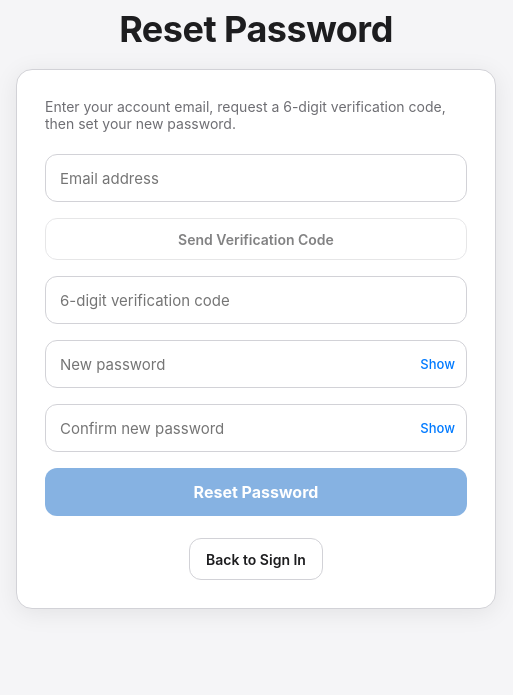
Scenario: ForgotPasswordPage › resets password successfully after entering code and new password
The width and height of the screenshot is (513, 695).
Type "test@example.com" into the field with placeholder "Email address".
click(256, 178); type("test@example.com")  # box [45, 154, 467, 202]
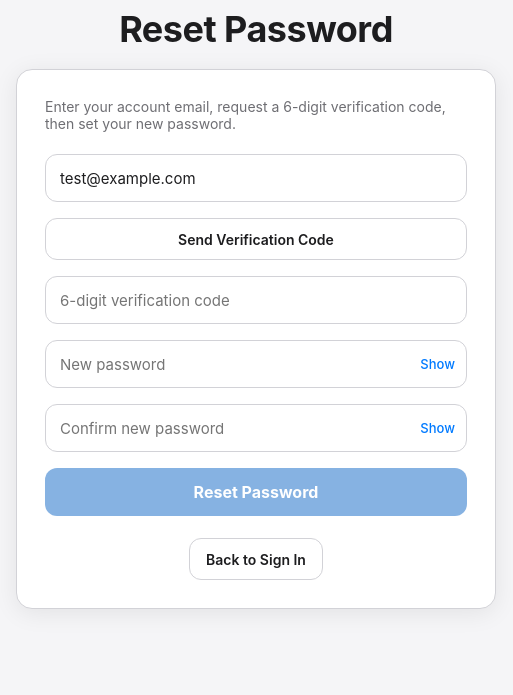
Click the button "Send Verification Code".
click(256, 239)  # box [45, 218, 467, 260]
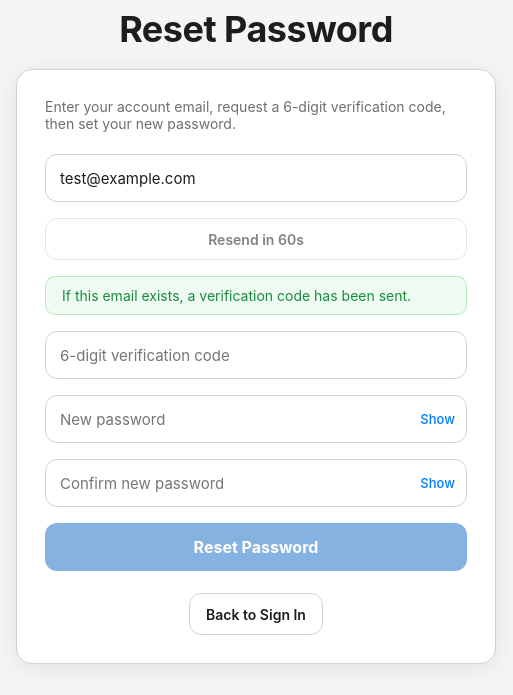
Check: the text "If this email exists, a verification code has been sent." is shown, box [45, 276, 467, 315]
Type "123456" into the field with placeholder "6-digit verification code".
click(256, 355); type("123456")  # box [45, 331, 467, 379]
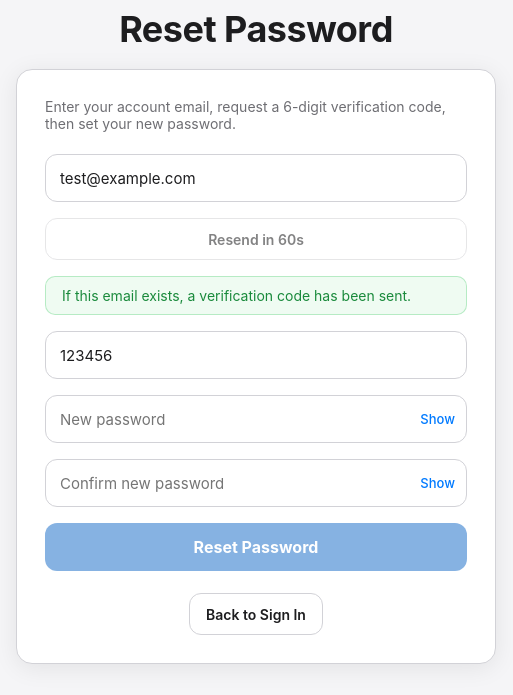
Type "new-pass-123" into the password field with placeholder "New password".
click(256, 419); type("new-pass-123")  # box [45, 395, 467, 443]
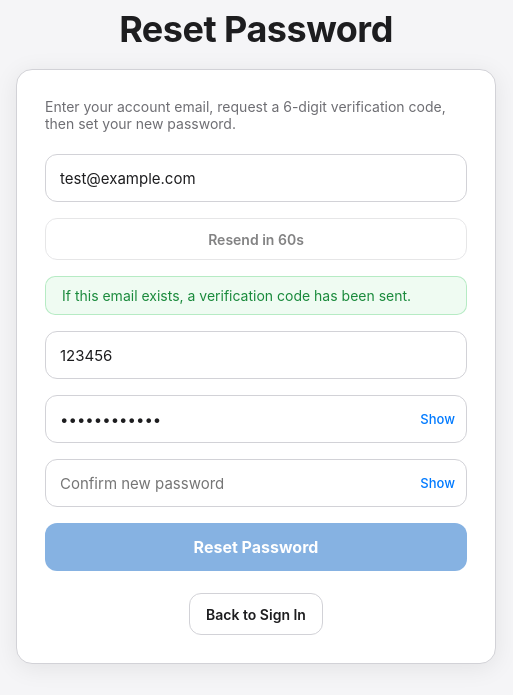
Type "new-pass-123" into the password field with placeholder "Confirm new password".
click(256, 483); type("new-pass-123")  # box [45, 459, 467, 507]
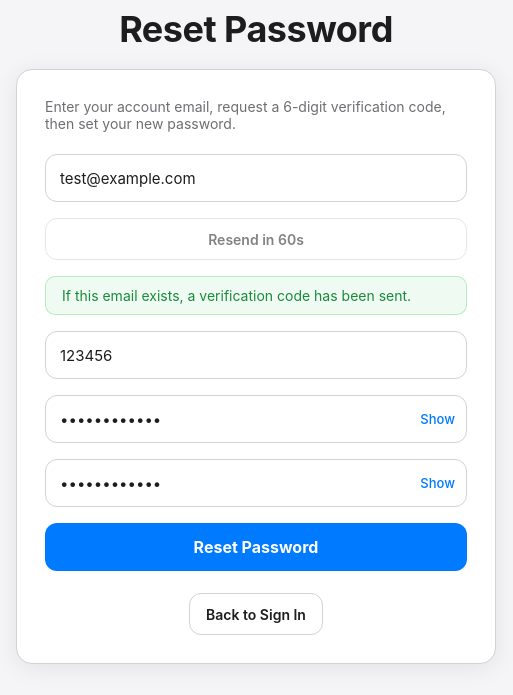
Click the button "Reset Password".
click(256, 547)  # box [45, 523, 467, 571]
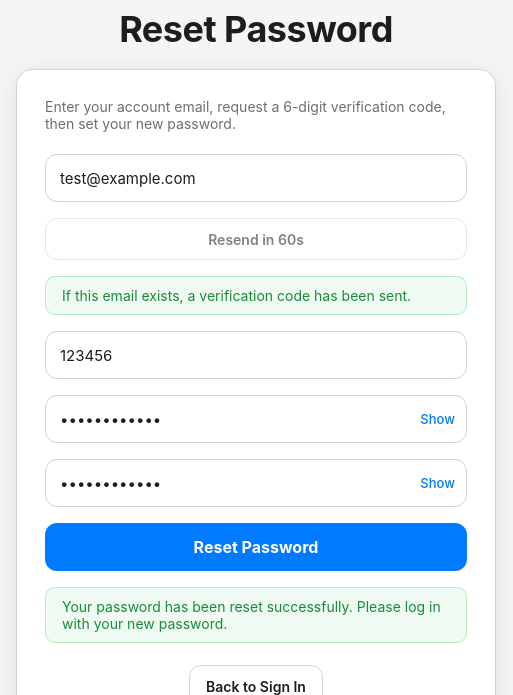
Check: the text "Your password has been reset successfully" is shown, box [62, 598, 441, 632]
